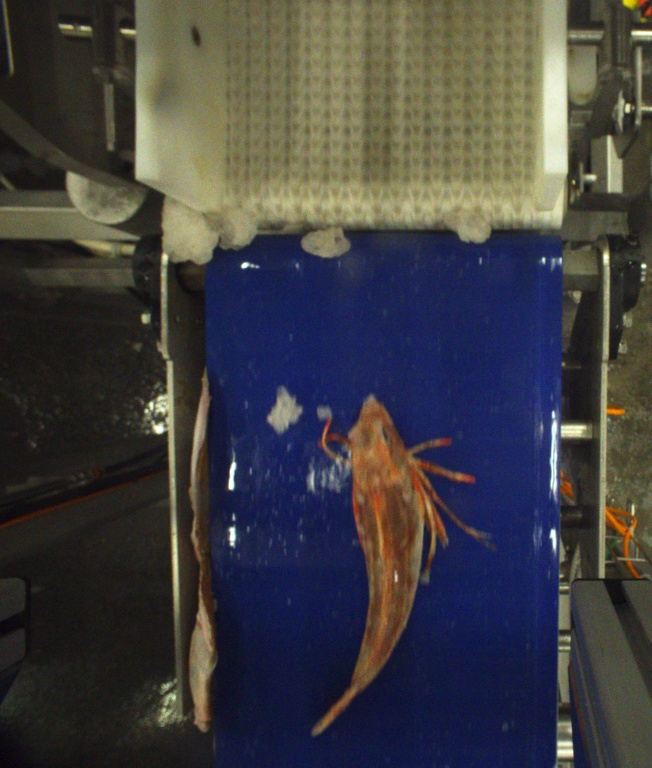GUU: (312, 395, 480, 741)
